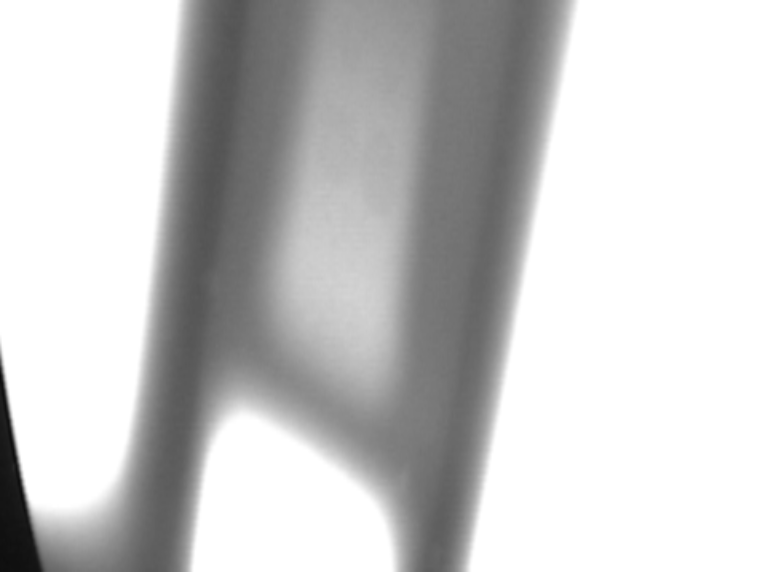defect: (209, 265, 228, 314)
